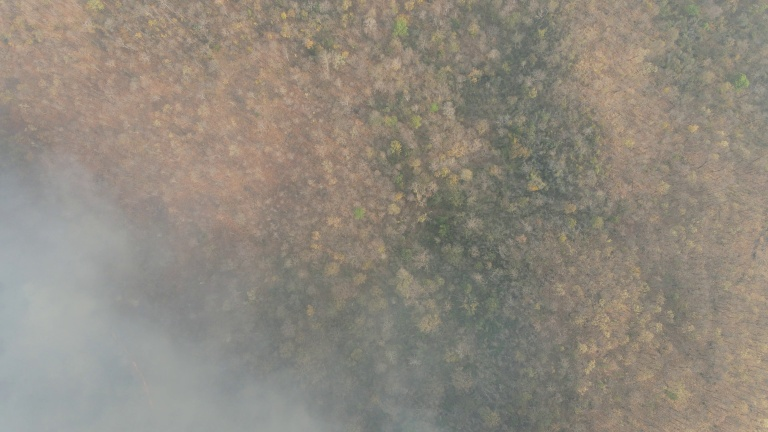fire: (126, 345, 178, 432)
smoke: (3, 164, 262, 432)
